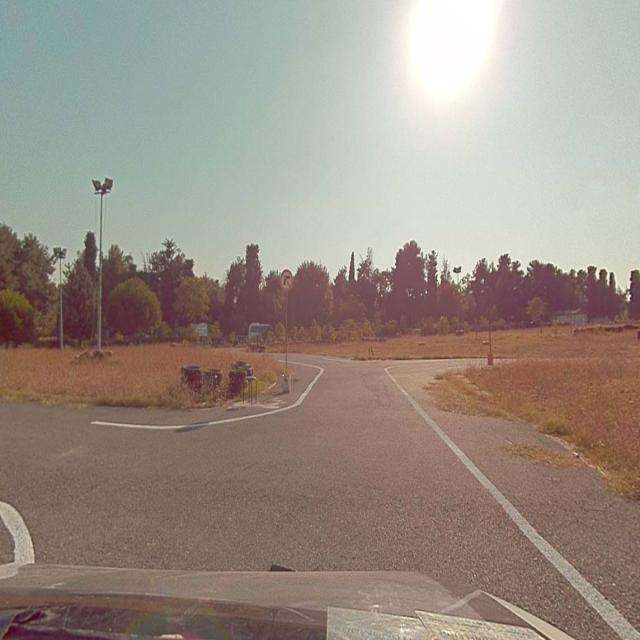sagadonulmez: (280, 268, 292, 288)
